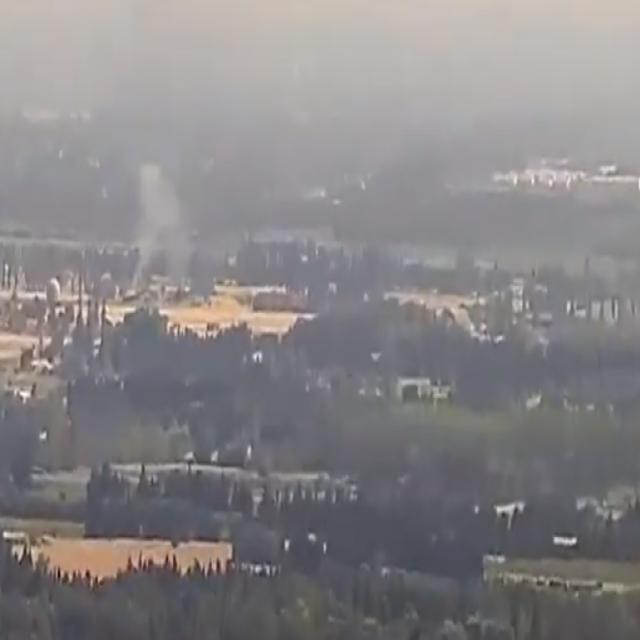Smoke: (129, 162, 199, 290)
